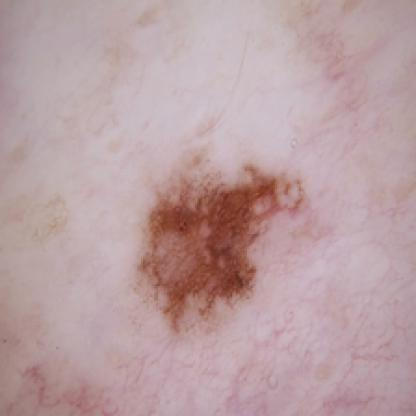benign: (132, 152, 306, 314)
